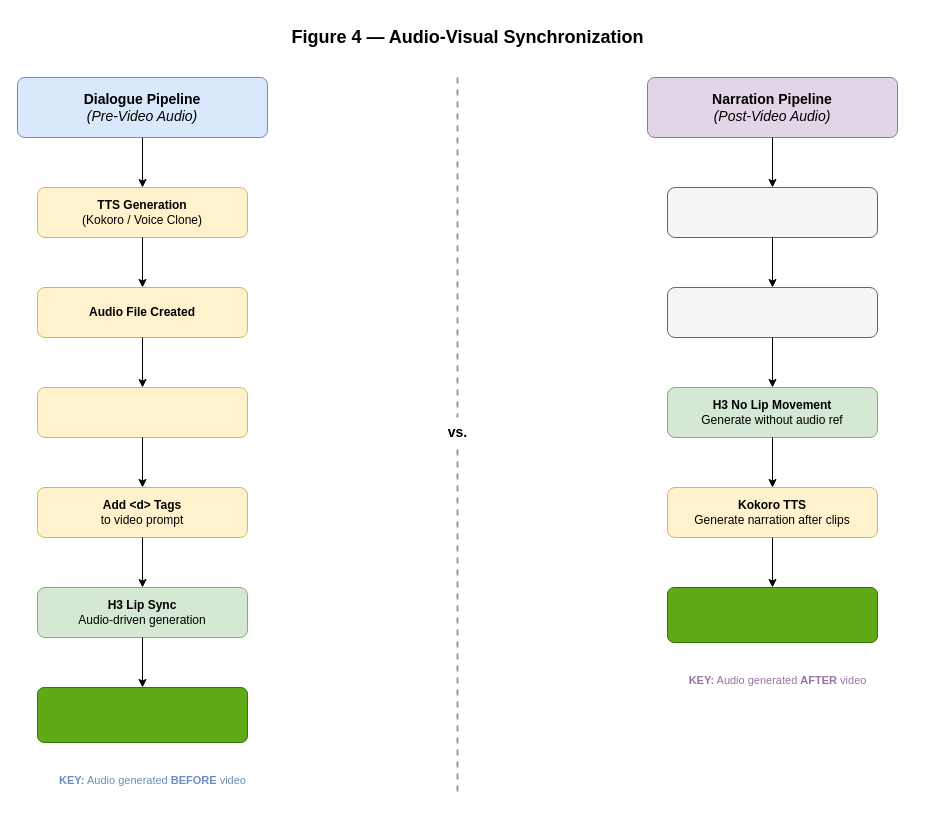
The diagram is 925 pixels wide and 816 high, and some of its shapes have lost their labels. The box of each missing label's shape, as (x1, y1, x2, y2) in pixels:
Baked In Audio synced to lip movement: (36, 686, 248, 742)
Closed Lips Prompt Explicit closed-mouth tag: (666, 286, 878, 338)
No Audio Ref No pre-generated audio: (666, 186, 878, 238)
Overlay in Post Audio layered on final video: (666, 586, 878, 642)
Upload as Audio Ref to ComfyUI workflow: (36, 386, 248, 438)
